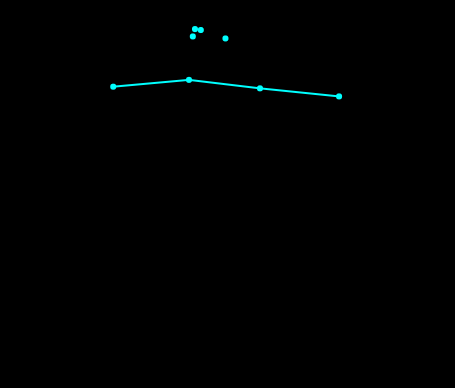warrior_2: (98, 19, 349, 138)
